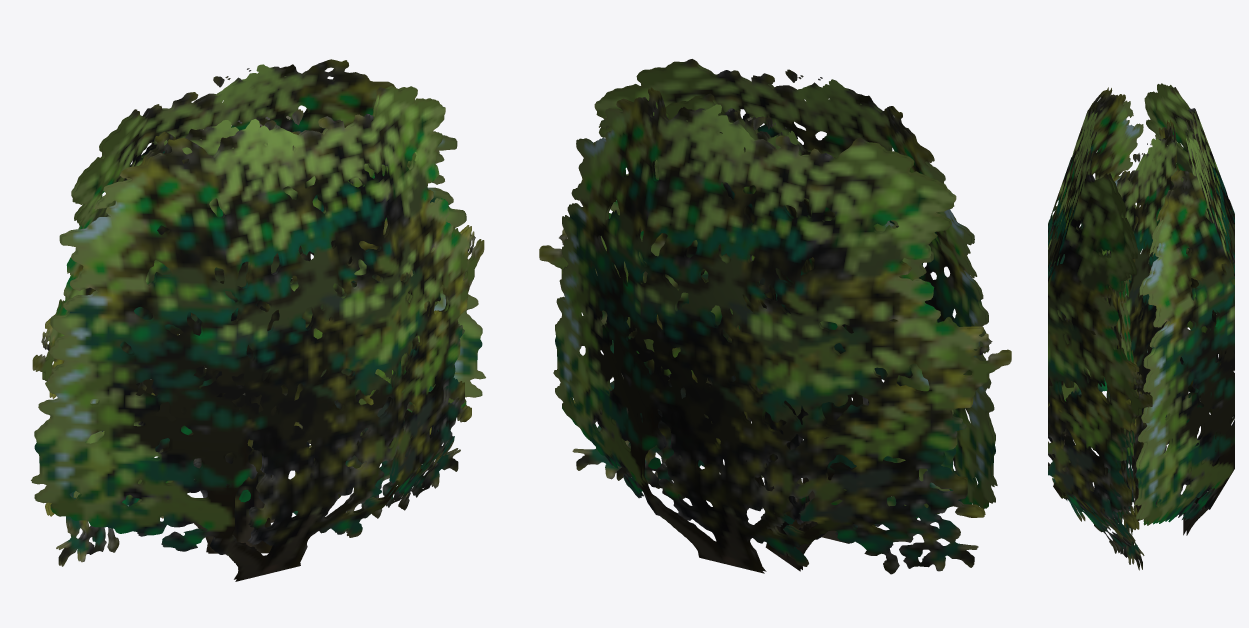
The model's file is tree_03a_ds.fbx.
3 renders of one model, left to right at view 1: azimuth 30°, elevation 25°; view 2: azimuth 150°, elevation 25°; view 3: azimuth 270°, elevation 25°, orthographic. The views are drawn at different scales.
Parts seen in each view (by area): view 1: tree_03a_ds; view 2: tree_03a_ds; view 3: tree_03a_ds.
Part boxes in pixels (left/top/right/bottom): tree_03a_ds: left=31, top=59, right=485, bottom=581; tree_03a_ds: left=539, top=59, right=1011, bottom=574; tree_03a_ds: left=1048, top=83, right=1234, bottom=570.
Bounding box in the file's own units: 2.73 × 2.62 × 1.09.
